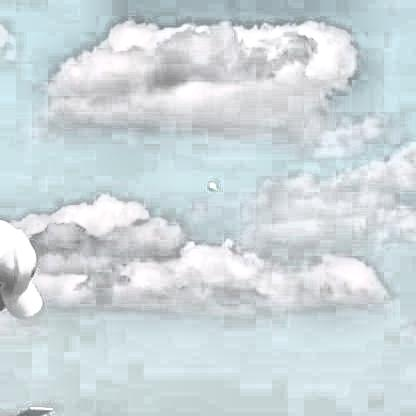golfball: (208, 181, 218, 192)
